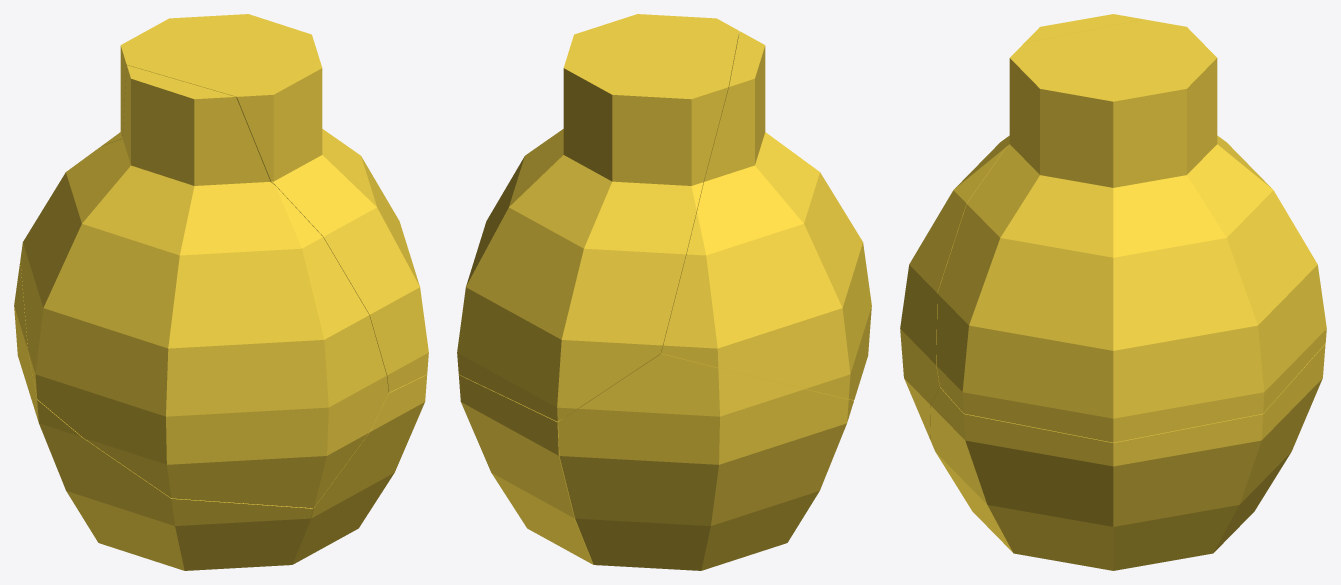
File: BrokenItem4.fbx
The picture shows the model from 3 angles, left to right: view 1: azimuth 30°, elevation 25°; view 2: azimuth 150°, elevation 25°; view 3: azimuth 270°, elevation 25°; orthographic projection.
Parts seen in each view (by area): view 1: Item6_cell.003, Item6_cell.002, Item6_cell, Item6_cell.001; view 2: Item6_cell.002, Item6_cell, Item6_cell.003, Item6_cell.001; view 3: Item6_cell.002, Item6_cell.001, Item6_cell.003.
Part boxes in pixels (x1,y1,x2,y2): Item6_cell.003: (20, 65, 388, 508); Item6_cell.002: (101, 14, 428, 392); Item6_cell: (14, 261, 313, 570); Item6_cell.001: (292, 374, 427, 564); Item6_cell.002: (457, 14, 739, 421); Item6_cell: (558, 353, 853, 570); Item6_cell.003: (661, 31, 871, 399); Item6_cell.001: (458, 374, 593, 564); Item6_cell.002: (936, 19, 1326, 442); Item6_cell.001: (930, 343, 1325, 570); Item6_cell.003: (900, 14, 1232, 439).
Size of the model in its own units: 170 by 199 by 170.
